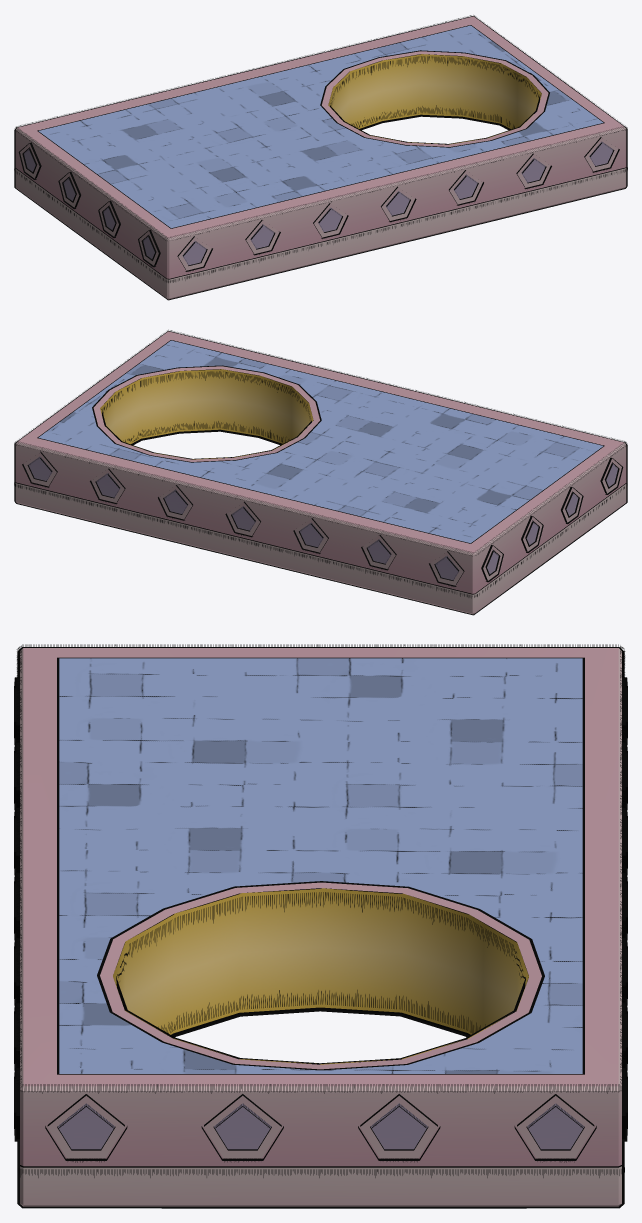
Rendered from Roof_Hole_01.glb.
3 views of the same model, one above another, from view 1: azimuth 30°, elevation 25°; view 2: azimuth 150°, elevation 25°; view 3: azimuth 270°, elevation 25° (orthographic). The views are drawn at different scales.
Parts seen in each view (by area): view 1: Roof_Hole_01; view 2: Roof_Hole_01; view 3: Roof_Hole_01.
Boxes of the visible parts, x1,y1,x2,y2 form: Roof_Hole_01: [14, 15, 627, 300]; Roof_Hole_01: [14, 330, 627, 615]; Roof_Hole_01: [14, 644, 627, 1208].
Bounding box in the file's own units: 9.85 × 1.28 × 5.72.
Materials: 4 (3 with a texture image).
